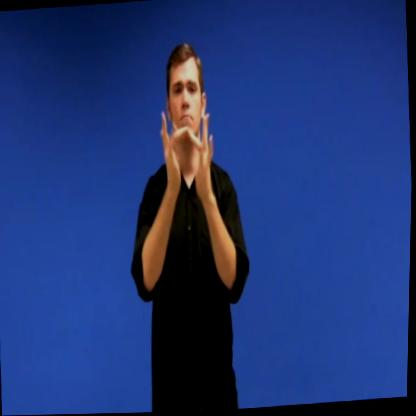Internet: (147, 93, 222, 215)
